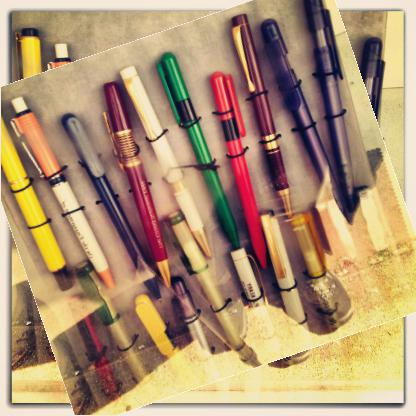Pen: (1, 1, 415, 403)
